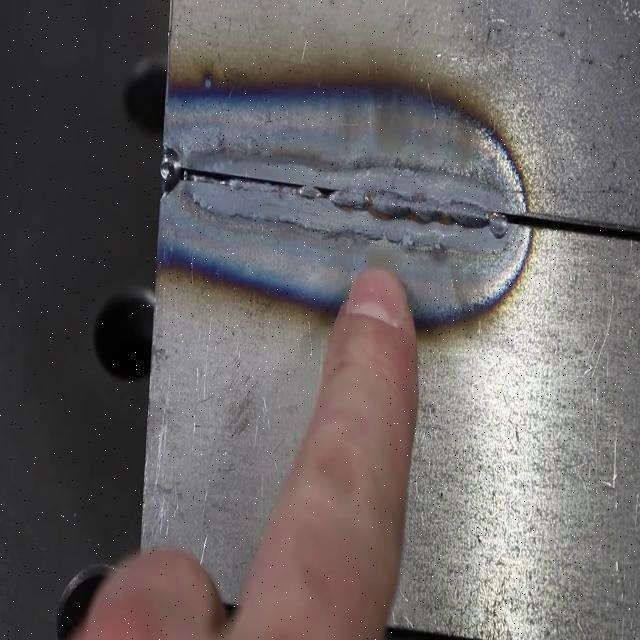Bad Welding: (159, 91, 531, 321)
Crack: (160, 147, 640, 240)
